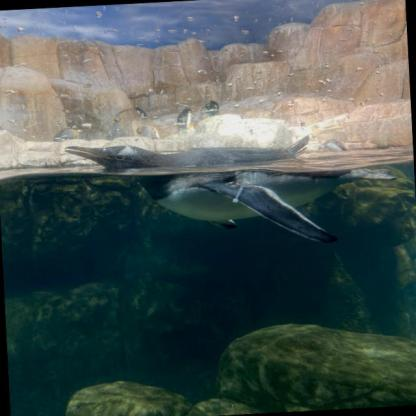penguin: (58, 122, 387, 250), (105, 113, 128, 145), (172, 106, 196, 135), (46, 124, 78, 142), (138, 120, 160, 140), (204, 98, 221, 120), (0, 120, 8, 136)
